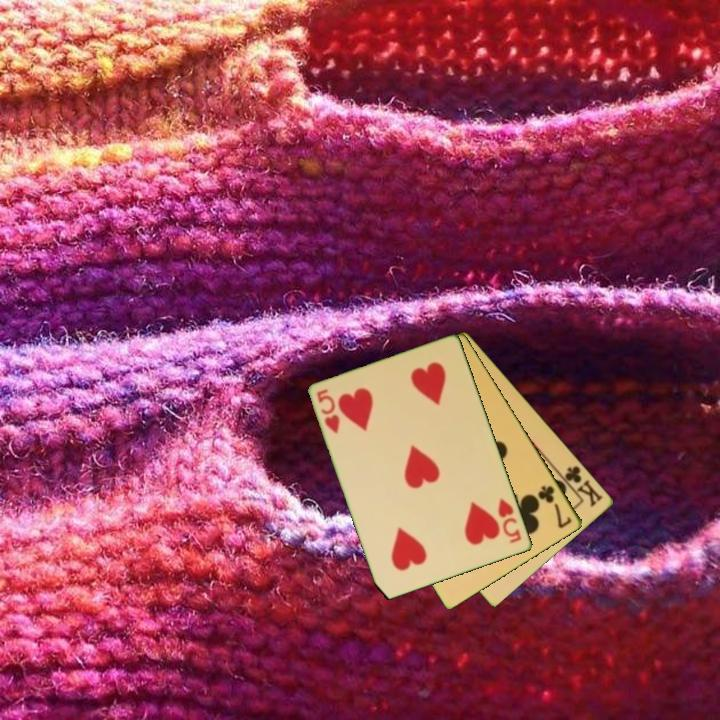5h: (495, 495, 525, 547), (313, 386, 343, 437)
7c: (534, 482, 575, 531)
Kc: (556, 462, 606, 510)
